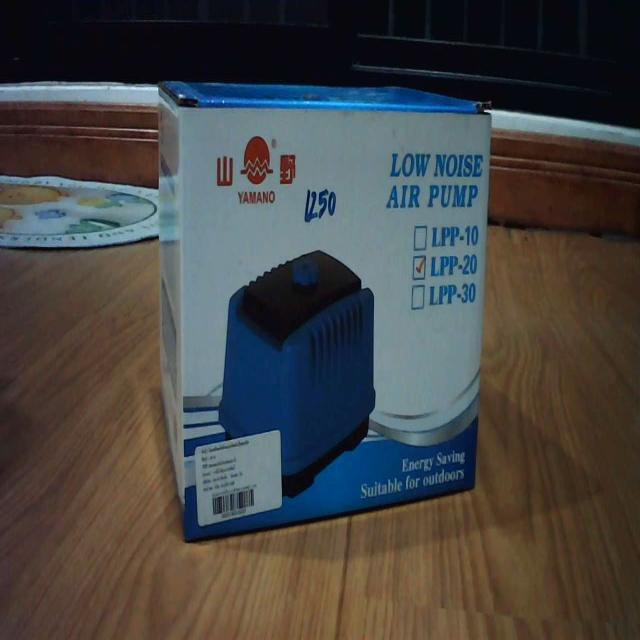YAMANO_LPP_20: (148, 58, 498, 545)
